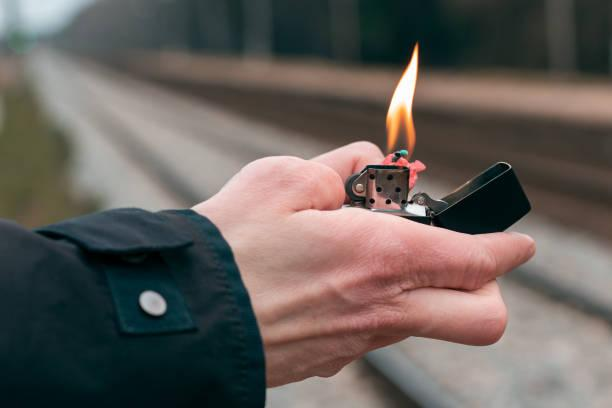Fire: (382, 30, 422, 153)
